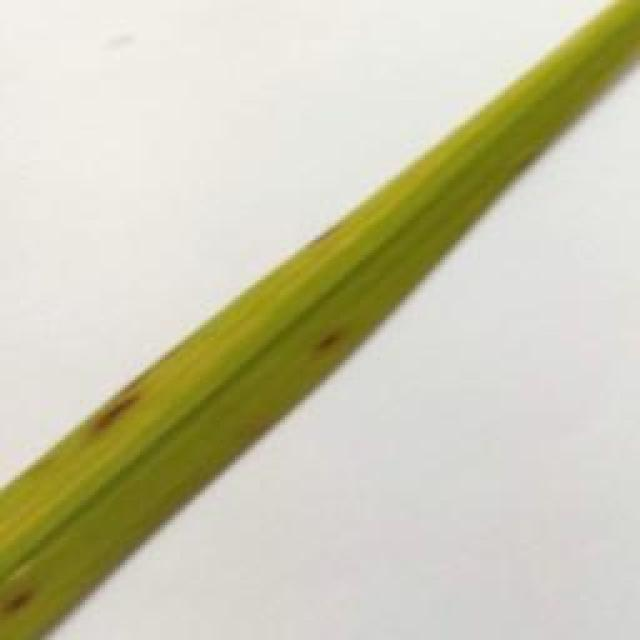Brown_Spot: (82, 388, 154, 436), (0, 575, 45, 633), (308, 321, 356, 354)
